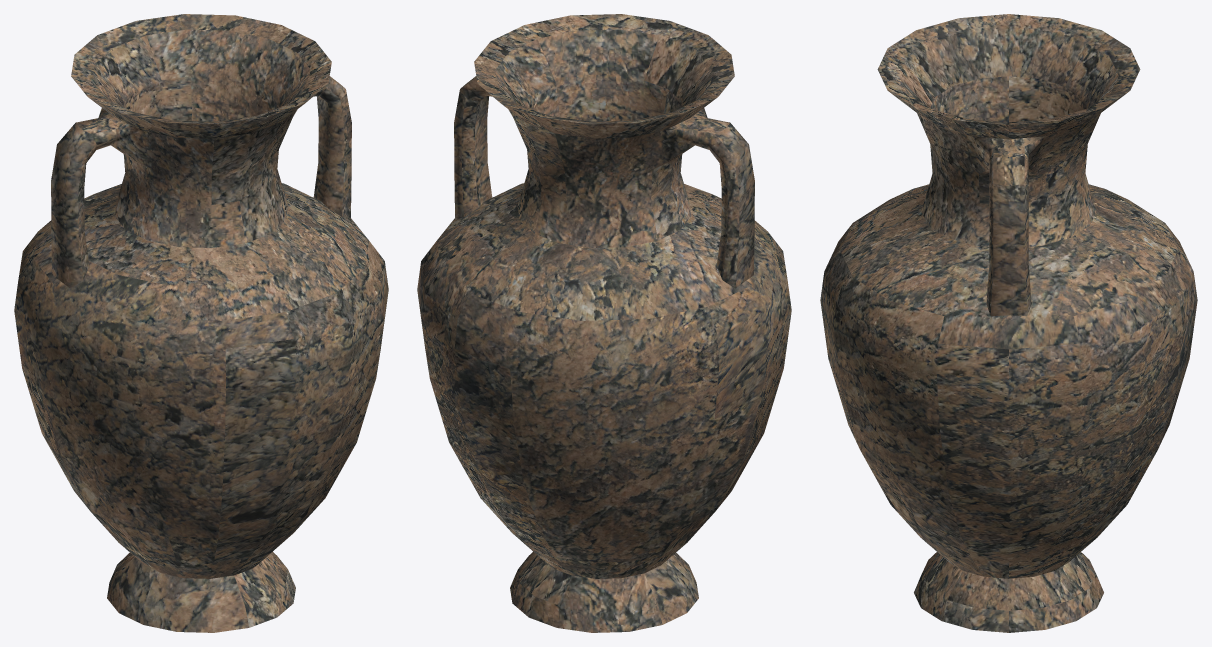
File: Vessel06.fbx
3 renders of one model, left to right at view 1: azimuth 30°, elevation 25°; view 2: azimuth 150°, elevation 25°; view 3: azimuth 270°, elevation 25°, orthographic.
Visible parts, largest first — view 1: Vessel06; view 2: Vessel06; view 3: Vessel06.
Boxes of the visible parts, bbox=[...] form: Vessel06: bbox=[14, 14, 388, 632]; Vessel06: bbox=[417, 14, 791, 632]; Vessel06: bbox=[820, 14, 1197, 632].
Bounding box in the file's own units: 25.94 × 39.69 × 25.94.
